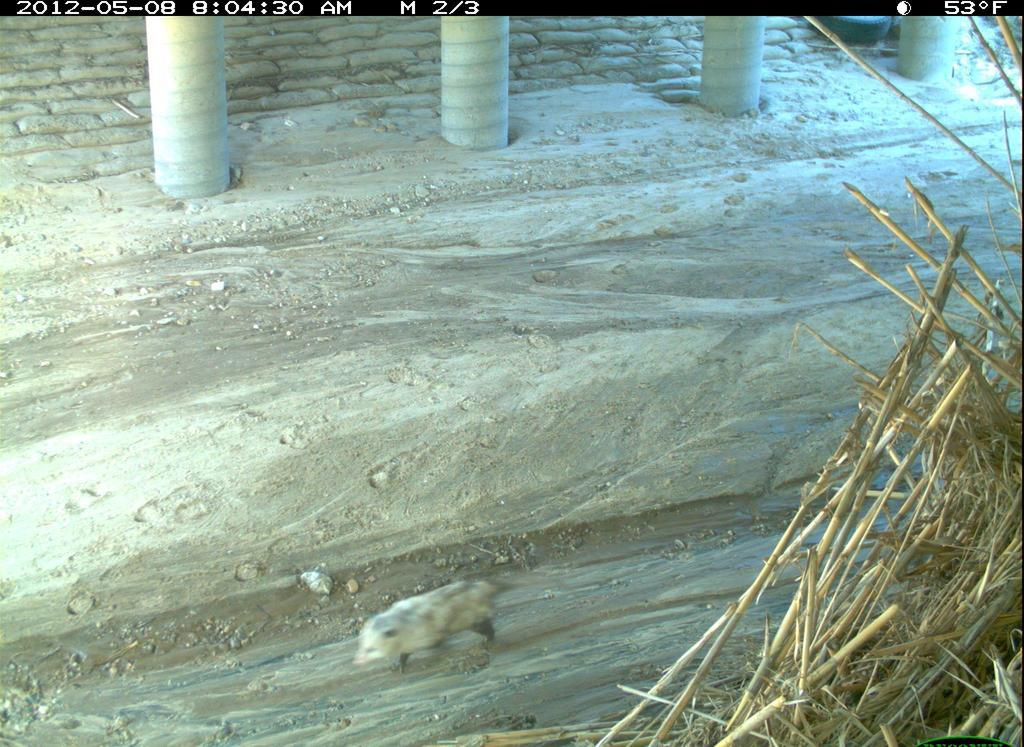opossum: (346, 565, 592, 688)
